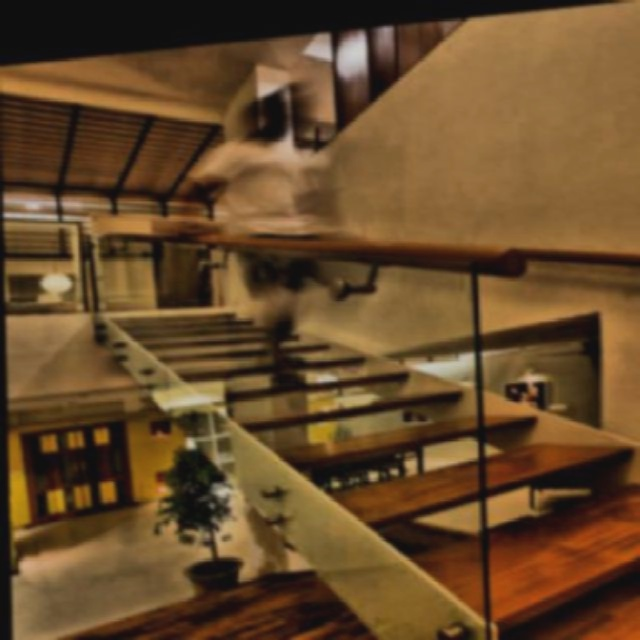stair: (237, 194, 640, 638)
